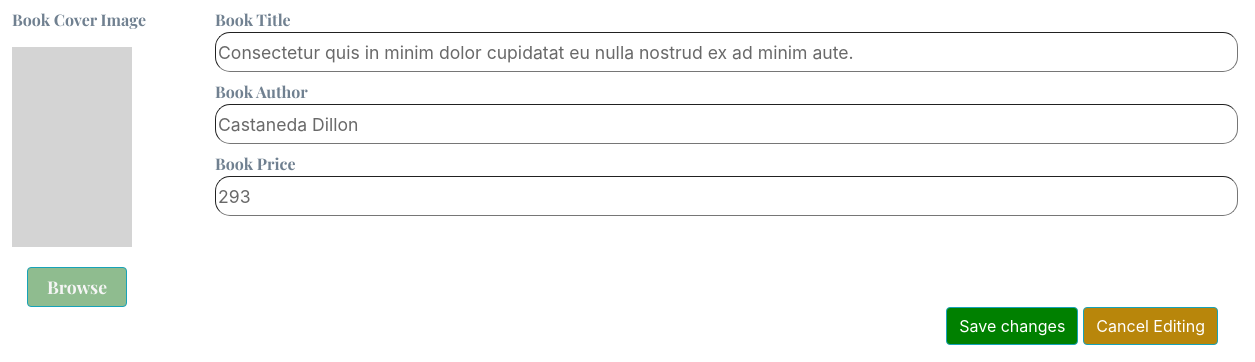
Test: Update book form component tests › Update book form validation test
Clear the field with test id "edit-book-input-title". click: coordinates (726, 52)
box: [215, 32, 1238, 72]
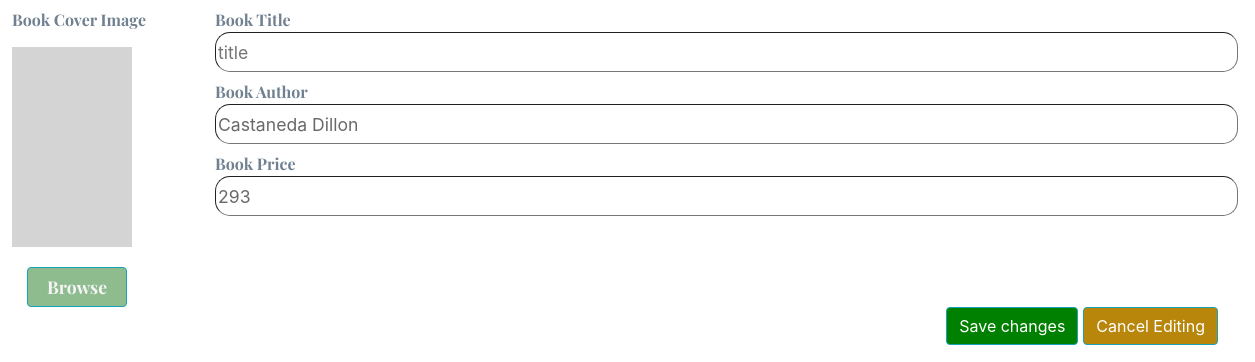
Clear the field with test id "edit-book-input-author". click: coordinates (726, 124)
box: [215, 104, 1238, 144]
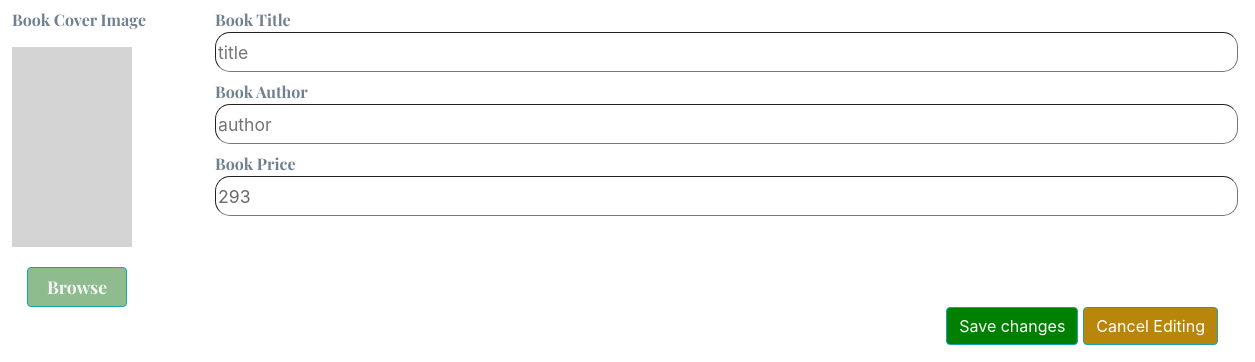
Clear the number field with test id "edit-book-input-price". click: coordinates (726, 196)
box: [215, 176, 1238, 216]
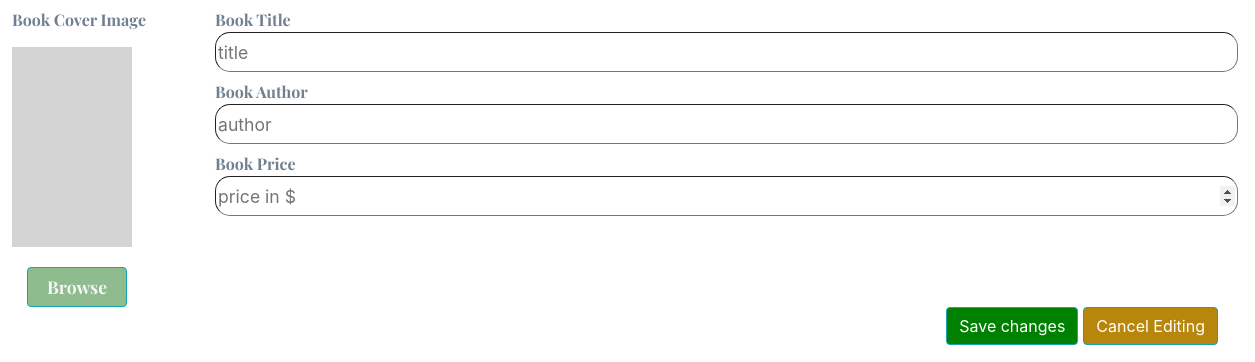
Click the button with test id "save-edit-book-btn". click: coordinates (1012, 326)
box: [946, 307, 1078, 345]
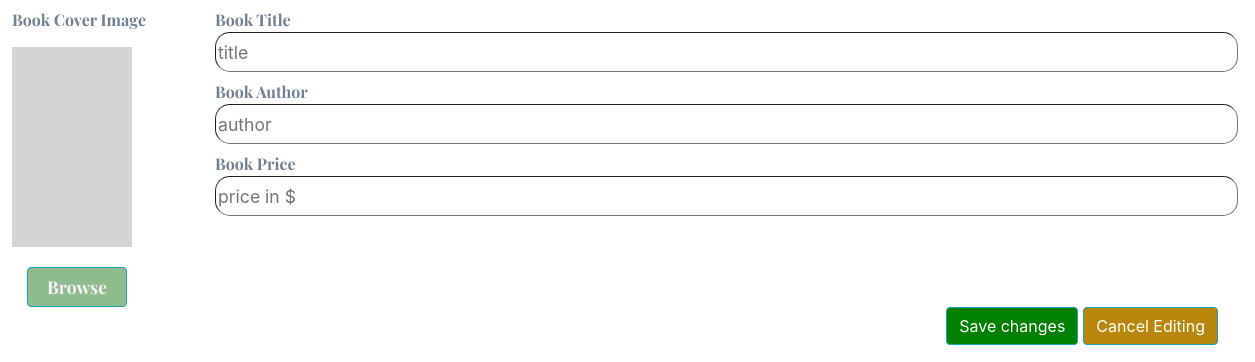
Clear the number field with test id "edit-book-input-price". click: coordinates (726, 196)
box: [215, 176, 1238, 216]
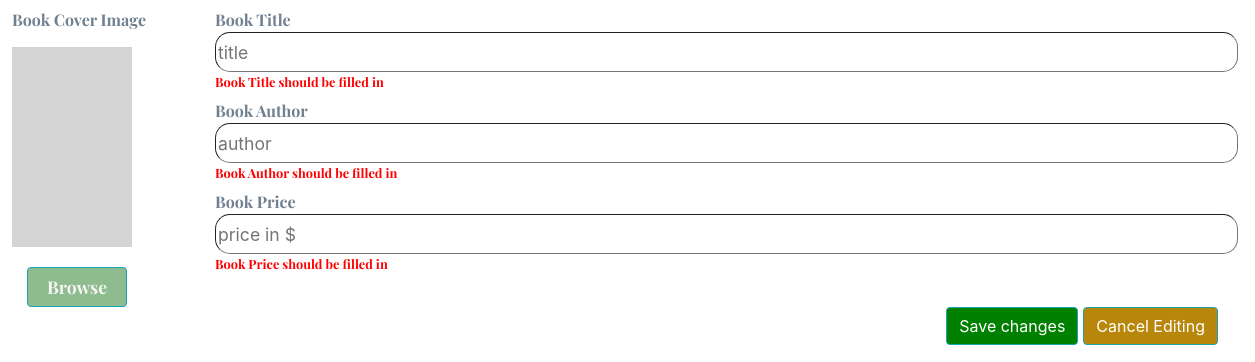
Now the text "Book Title should be filled in" is shown, box [215, 73, 384, 90]
Now the text "Book Author should be filled in" is shown, box [215, 164, 397, 181]
Now the text "Book Price should be filled in" is shown, box [215, 255, 388, 272]
